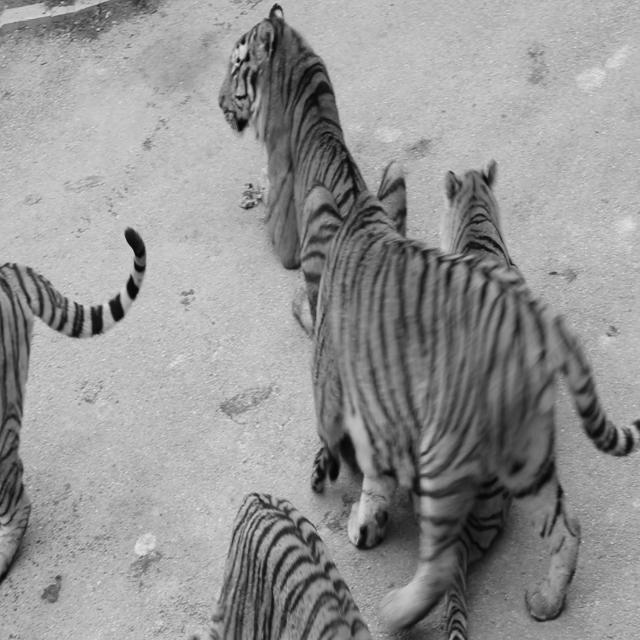Cat: (196, 491, 373, 638)
Tiger: (217, 2, 639, 637), (0, 225, 146, 579)
